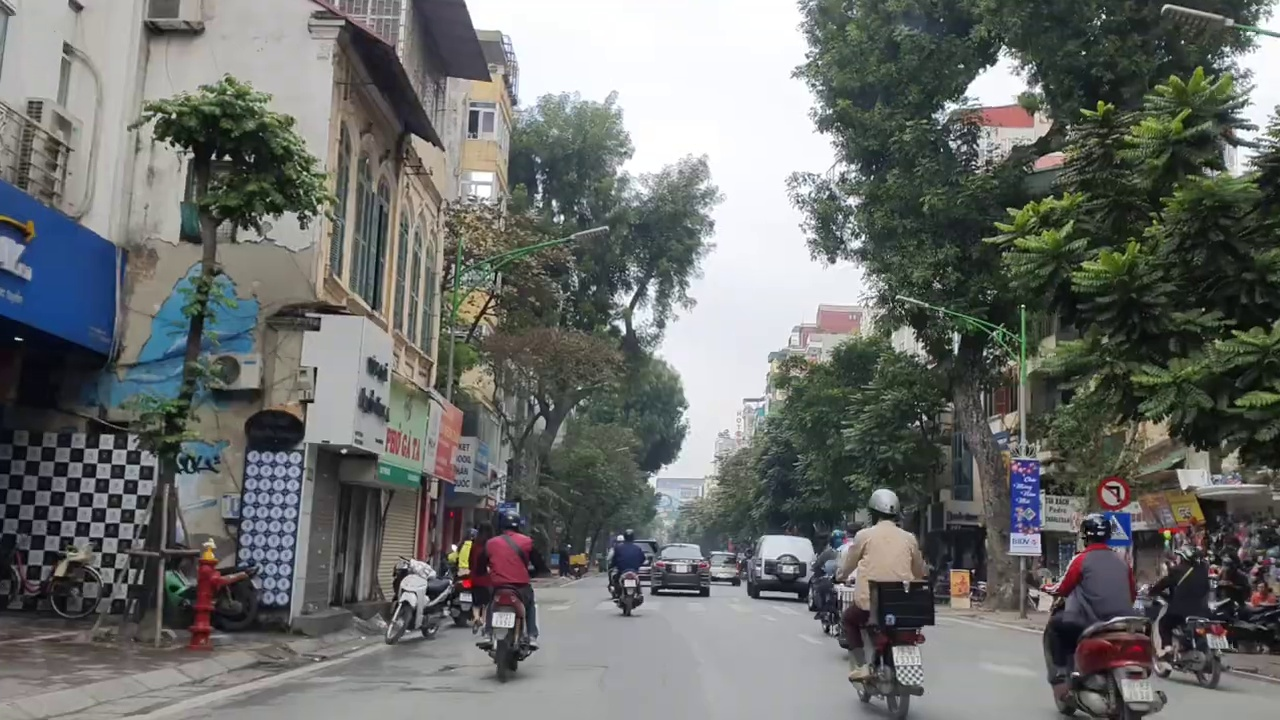person: (884, 636, 927, 664), (490, 596, 521, 631), (1119, 673, 1152, 705), (1205, 620, 1232, 648)
